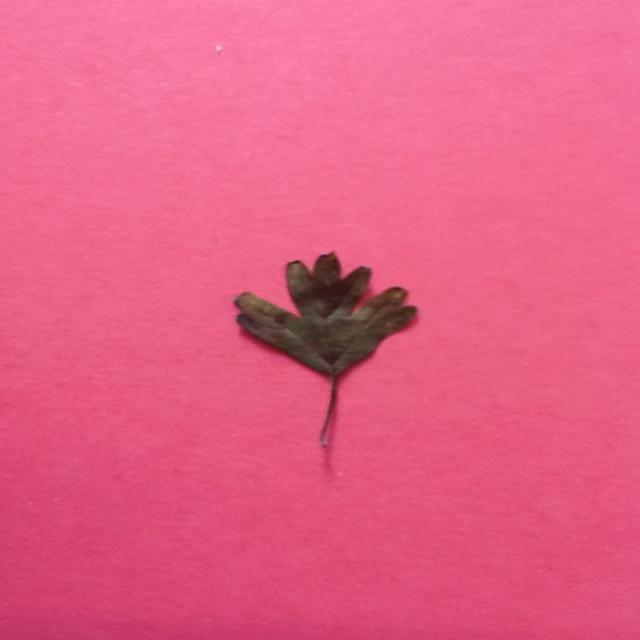foliage: (231, 249, 423, 452)
